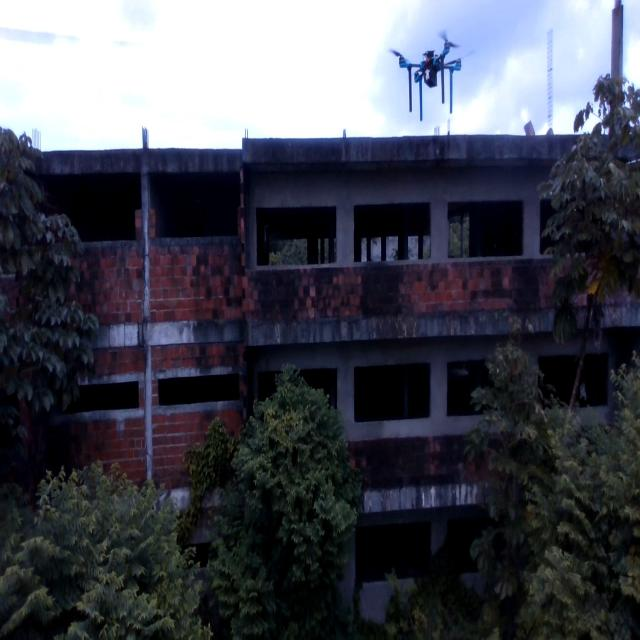-uav-: (382, 22, 470, 126)
